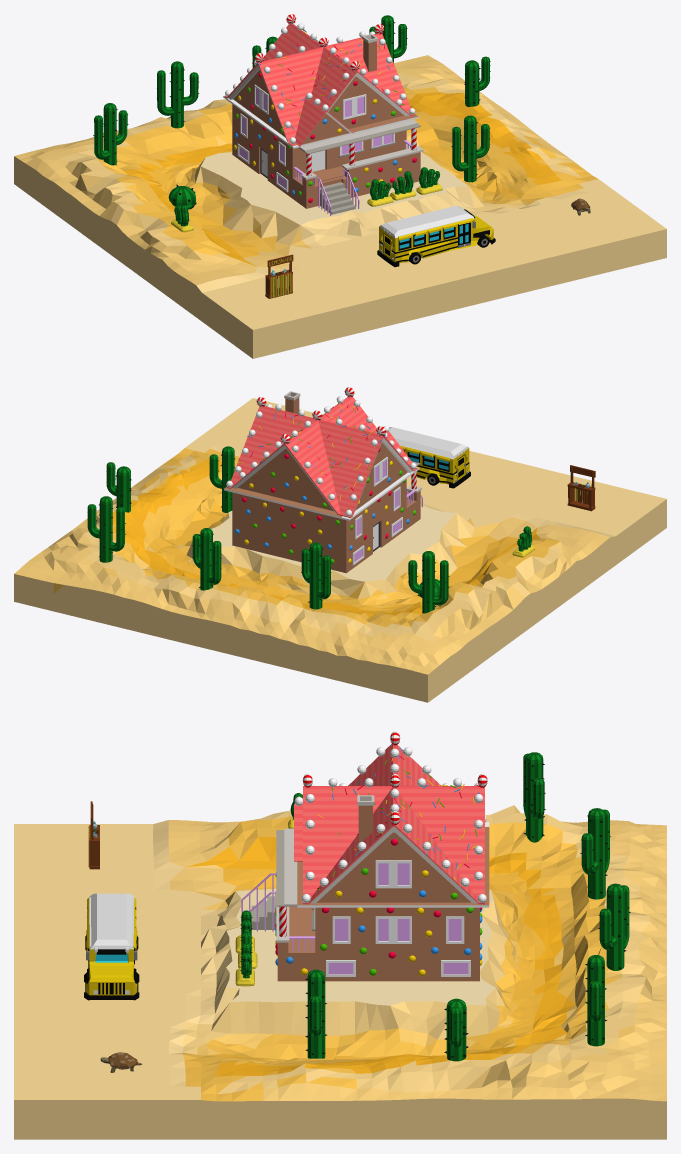
3 renders of one model, top to bottom at view 1: azimuth 30°, elevation 25°; view 2: azimuth 150°, elevation 25°; view 3: azimuth 270°, elevation 25°, orthographic. The views are drawn at different scales.
Parts seen in each view (by area): view 1: Cube.001, Cube.1203, VEHICLES_SCHOOL_BUS, Cylinder.044, Cylinder.037, Cylinder.045, Cylinder.038, OBJRANDOM_LEMONADE_STAND, Cylinder.042, Cylinder.039, Cylinder.041; view 2: Cube.001, Cube.1203, VEHICLES_SCHOOL_BUS, Cylinder.042, Cylinder.045, Cylinder.044, Cylinder.043, Cylinder.037, OBJRANDOM_LEMONADE_STAND, Cylinder.038; view 3: Cube.001, Cube.1203, VEHICLES_SCHOOL_BUS, Cylinder.043, Cylinder.044, Cylinder.045, Cylinder.037, Cylinder.042, Cylinder.038, OBJRANDOM_LEMONADE_STAND, Cylinder.041.
Boxes of the visible parts, box(x1,y1,x2,y2) form: Cube.001: box(14, 55, 666, 358); Cube.1203: box(223, 14, 423, 215); VEHICLES_SCHOOL_BUS: box(377, 205, 495, 267); Cylinder.044: box(157, 61, 199, 128); Cylinder.037: box(451, 115, 489, 182); Cylinder.045: box(93, 103, 128, 165); Cylinder.038: box(464, 56, 490, 106); OBJRANDOM_LEMONADE_STAND: box(265, 254, 293, 298); Cylinder.042: box(369, 15, 407, 63); Cylinder.039: box(367, 179, 393, 206); Cylinder.041: box(416, 167, 442, 194); Cube.001: box(14, 398, 666, 702); Cube.1203: box(224, 387, 422, 573); VEHICLES_SCHOOL_BUS: box(389, 427, 470, 488); Cylinder.042: box(87, 496, 125, 562); Cylinder.045: box(408, 551, 449, 613); Cylinder.044: box(301, 542, 331, 609); Cylinder.043: box(192, 528, 221, 590); Cylinder.037: box(209, 446, 239, 512); OBJRANDOM_LEMONADE_STAND: box(567, 465, 595, 511); Cylinder.038: box(106, 462, 131, 512); Cube.001: box(14, 805, 666, 1139); Cube.1203: box(241, 731, 489, 981); VEHICLES_SCHOOL_BUS: box(84, 893, 139, 1000); Cylinder.043: box(598, 883, 630, 970); Cylinder.044: box(580, 808, 610, 899); Cylinder.045: box(523, 752, 545, 842); Cylinder.037: box(305, 969, 326, 1058); Cylinder.042: box(585, 955, 606, 1046); Cylinder.038: box(444, 998, 468, 1061); OBJRANDOM_LEMONADE_STAND: box(88, 801, 99, 869); Cylinder.041: box(235, 943, 254, 986).
Bounding box in the file's own units: 4002 × 1579 × 4001.
Materials: 46 (4 with a texture image).
